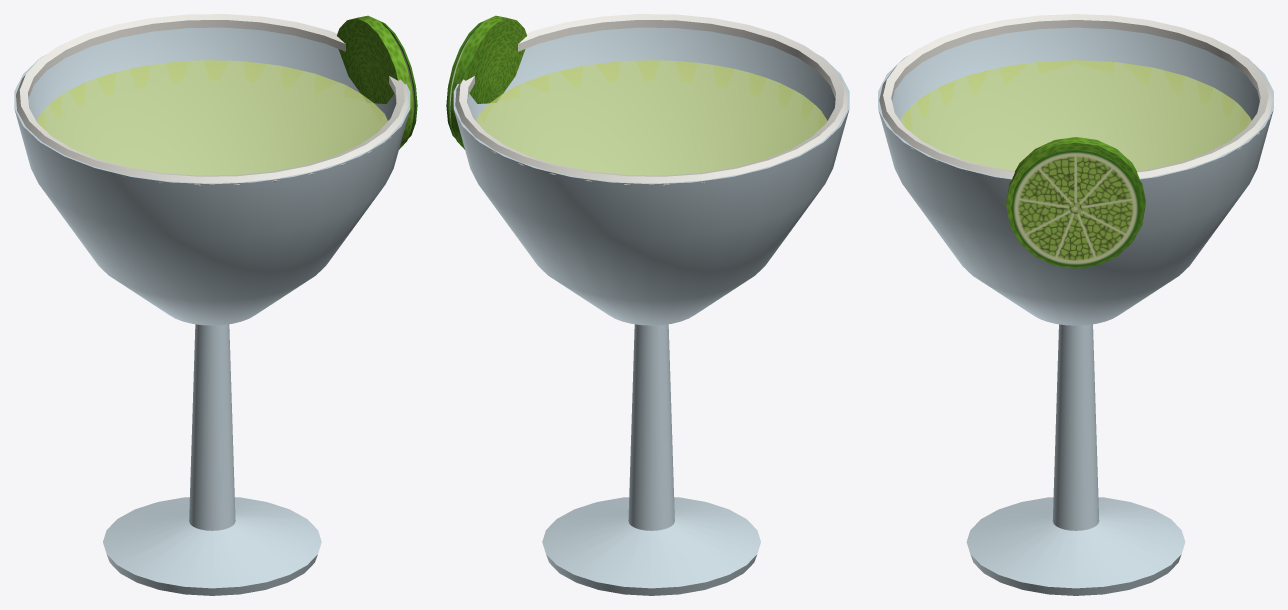
The model's file is cocktail_margarita_salt_rim.glb.
3 renders of one model, left to right at view 1: azimuth 30°, elevation 25°; view 2: azimuth 150°, elevation 25°; view 3: azimuth 270°, elevation 25°, orthographic.
Parts seen in each view (by area): view 1: cocktail_margarita_salt_rim; view 2: cocktail_margarita_salt_rim; view 3: cocktail_margarita_salt_rim.
Boxes of the visible parts, box(x1,y1,x2,y2) form: cocktail_margarita_salt_rim: box(14, 14, 417, 595); cocktail_margarita_salt_rim: box(446, 14, 849, 595); cocktail_margarita_salt_rim: box(878, 14, 1273, 595).
Size of the model in its own units: 0.1202 by 0.163 by 0.1194.
Materials: 5 (2 with a texture image).
